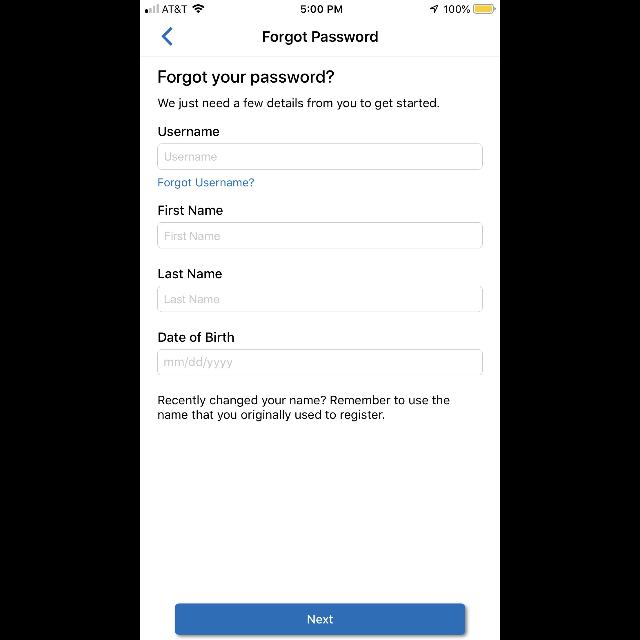icon: (162, 28, 172, 46)
input: (158, 349, 482, 375), (158, 286, 482, 312), (158, 223, 482, 249), (158, 144, 482, 170)
text: (158, 395, 450, 421), (158, 98, 440, 110), (158, 70, 334, 86), (262, 31, 378, 45), (158, 179, 254, 189), (158, 332, 234, 342), (165, 358, 233, 368), (159, 205, 223, 215), (158, 270, 222, 278), (159, 128, 219, 136), (165, 295, 219, 303), (166, 232, 220, 240), (165, 153, 217, 161)
textbutton: (175, 604, 465, 634)
uppertaskbar: (140, 0, 500, 14)
